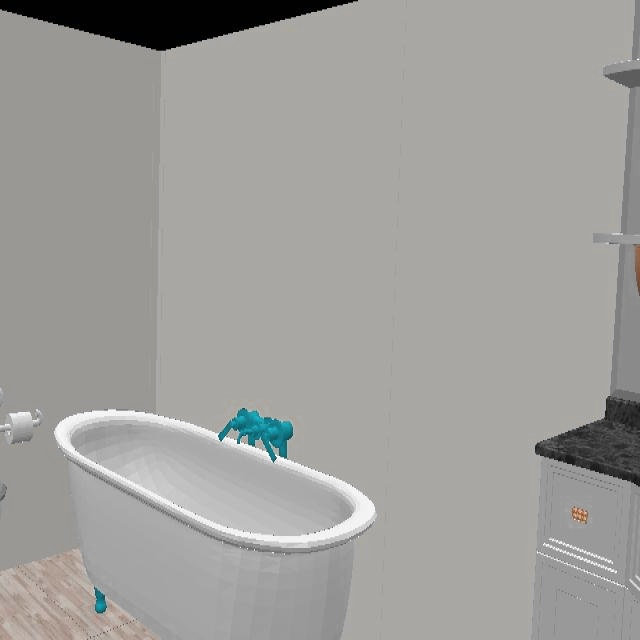bathtube: (53, 411, 377, 640)
